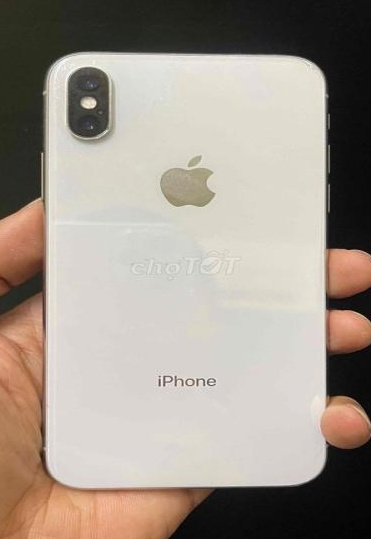scratch: (102, 122, 115, 134)
